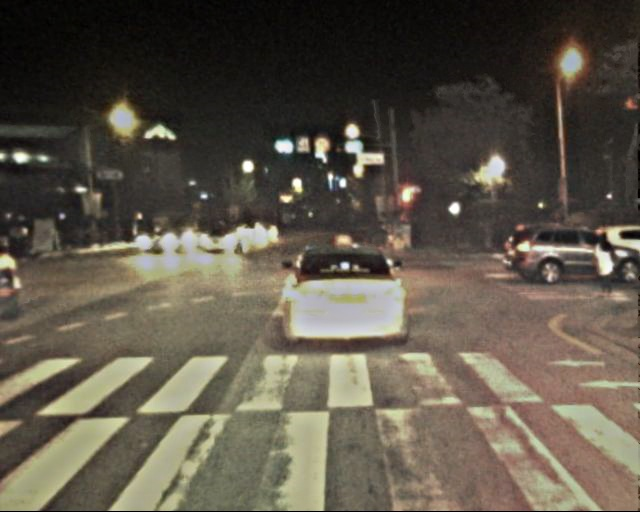person: (587, 229, 618, 303)
